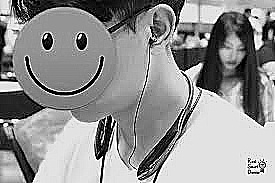earphone: (144, 3, 176, 55)
